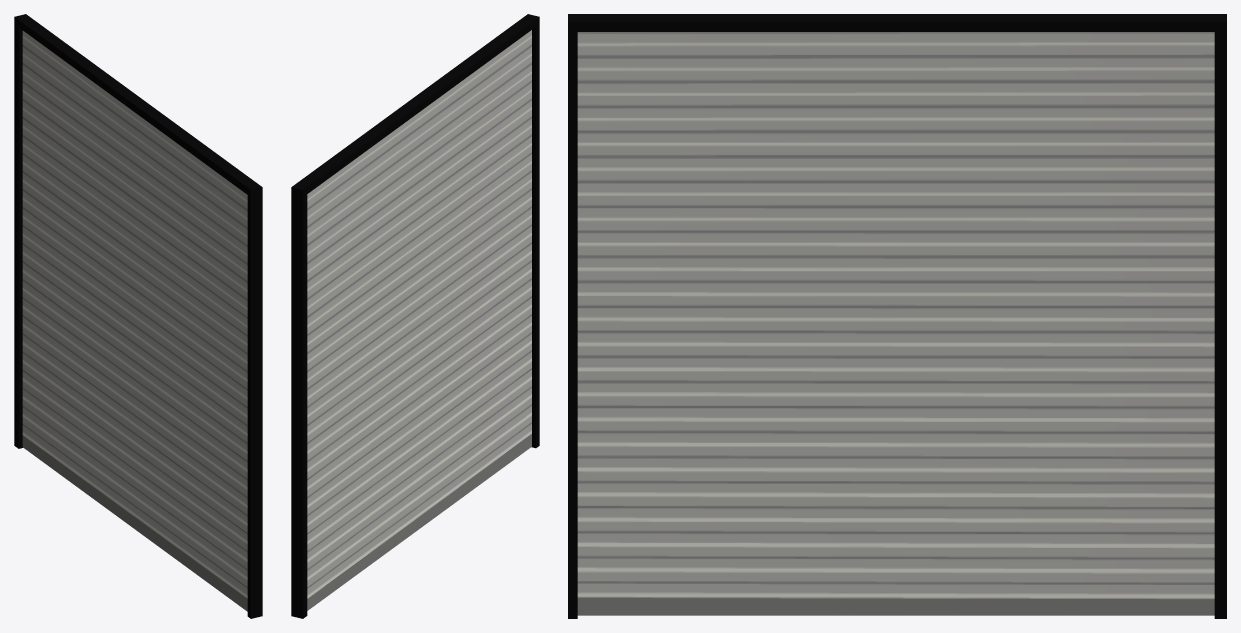
File: 23Roll-Up.c9cd5245.gltf
3 renders of one model, left to right at view 1: azimuth 30°, elevation 25°; view 2: azimuth 150°, elevation 25°; view 3: azimuth 270°, elevation 25°, orthographic. The views are drawn at different scales.
Parts seen in each view (by area): view 1: Plane.001, Plane; view 2: Plane.001, Plane; view 3: Plane.001, Plane.
Boxes of the visible parts, x1,y1,x2,y2 form: Plane.001: [22, 30, 247, 611]; Plane: [14, 14, 262, 618]; Plane.001: [307, 30, 531, 610]; Plane: [291, 14, 539, 618]; Plane.001: [577, 32, 1214, 615]; Plane: [568, 14, 1226, 618].
Size of the model in its own units: 0.17 by 6 by 6.
2 materials, 1 textured.
